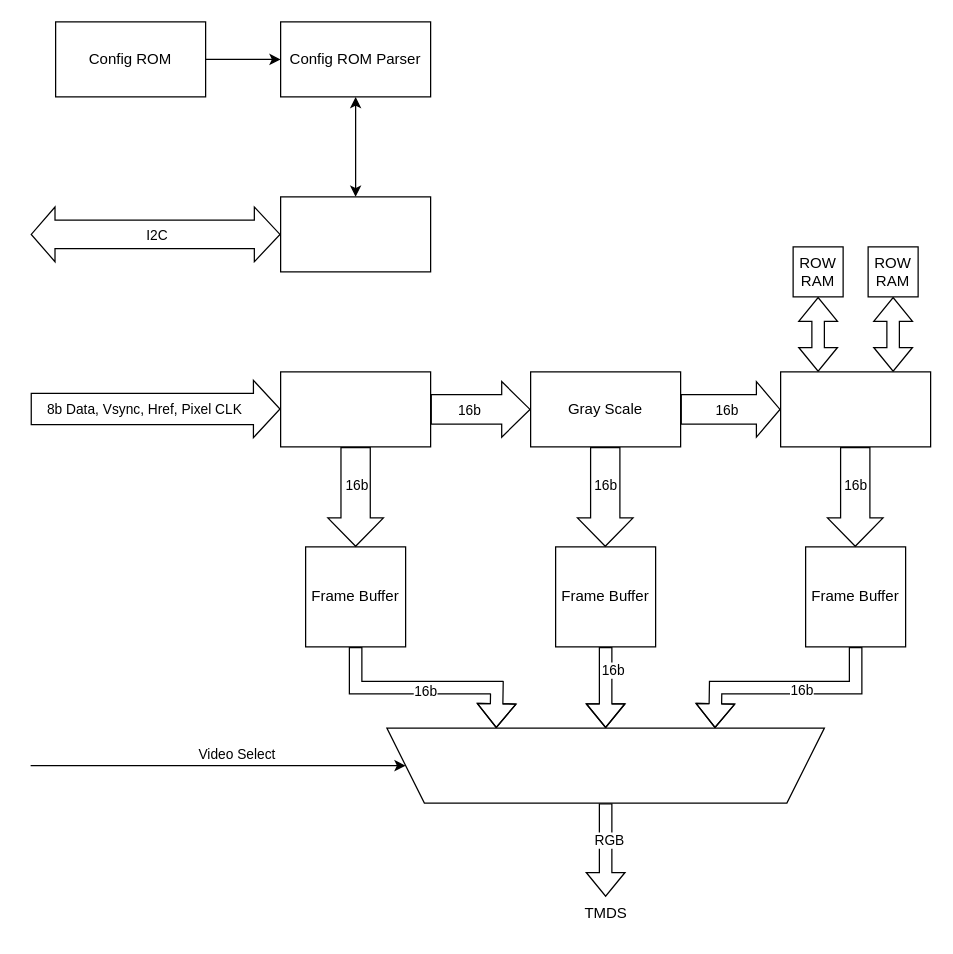
Some shapes in this 953 by 954 pixel diagram are drawn without their labels. Here are the shapes that lost their labels. From the top down, the box of each, then its label:
(279, 196, 431, 272): 8b I2C controller
(279, 371, 431, 447): Camera Read FSM
(779, 371, 931, 447): Sobbel Filter
(386, 727, 824, 803): Video MUX Logic
